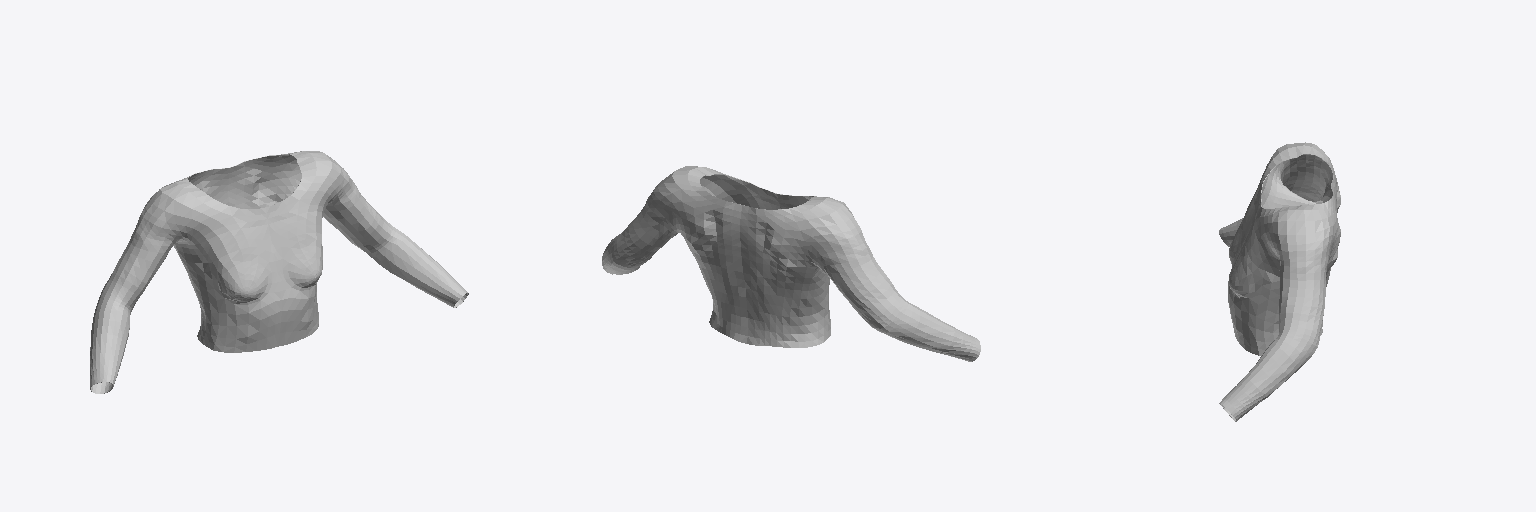
Rendered from striped_shirt.obj.
3 views of the same model, side by side, from view 1: azimuth 30°, elevation 25°; view 2: azimuth 150°, elevation 25°; view 3: azimuth 270°, elevation 25° (orthographic).
Size of the model in its own units: 8.85 by 3.52 by 2.48.